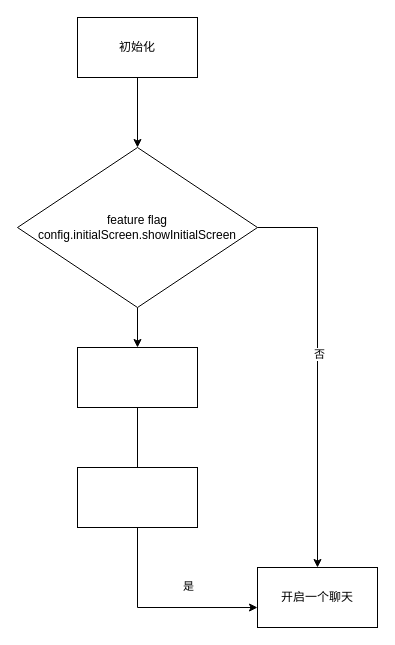
The diagram is 395 pixels wide and 645 high, and some of its shapes have lost their labels. The shapes that lost their labels are listed below. From the top down, each one's centre as x and y in pixels, then its label:
At (137,377): "show initial screen".
At (137,497): "hide initial screen".
